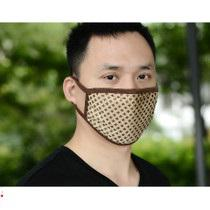OK: (80, 60, 163, 143)
